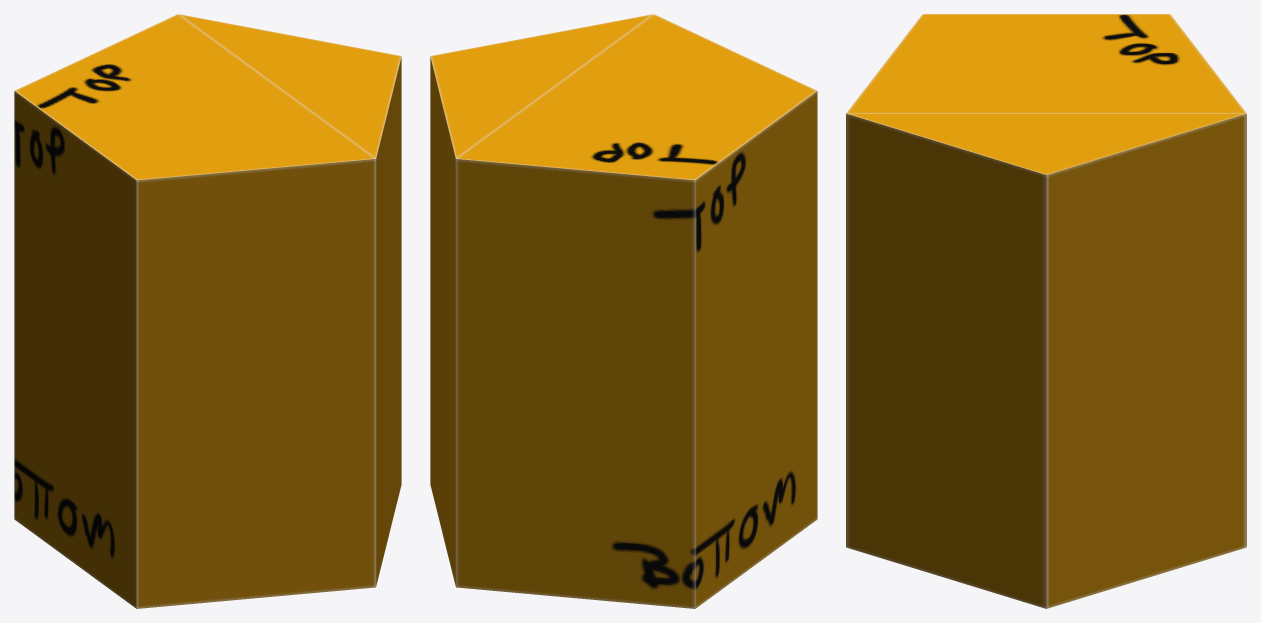
File: hs_cannedFood.fbx
3 renders of one model, left to right at view 1: azimuth 30°, elevation 25°; view 2: azimuth 150°, elevation 25°; view 3: azimuth 270°, elevation 25°, orthographic.
Visible parts, largest first — view 1: cannedfood; view 2: cannedfood; view 3: cannedfood.
Boxes of the visible parts, x1,y1,x2,y2 form: cannedfood: (14, 14, 401, 608); cannedfood: (430, 14, 817, 608); cannedfood: (846, 14, 1246, 608).
Bounding box in the file's own units: 1.81 × 2.27 × 1.9.
